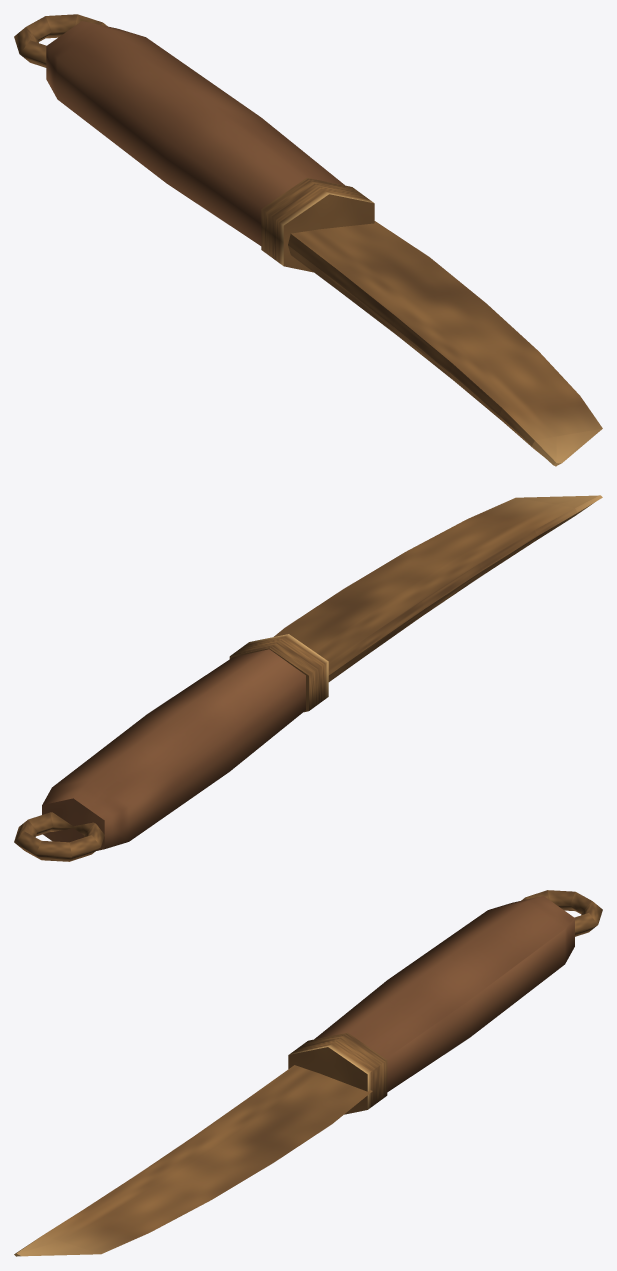
File: knife_bronze.glb
3 renders of one model, top to bottom at view 1: azimuth 30°, elevation 25°; view 2: azimuth 150°, elevation 25°; view 3: azimuth 330°, elevation 25°, orthographic. The views are drawn at different scales.
Visible parts, largest first — view 1: KNIFE; view 2: KNIFE; view 3: KNIFE.
Part boxes in pixels (bbox=[...]): KNIFE: bbox=[14, 14, 602, 466]; KNIFE: bbox=[14, 495, 602, 861]; KNIFE: bbox=[14, 890, 602, 1256].
Size of the model in its own units: 0.0248 by 0.017 by 0.2072.
Materials: 2 (2 with a texture image).
